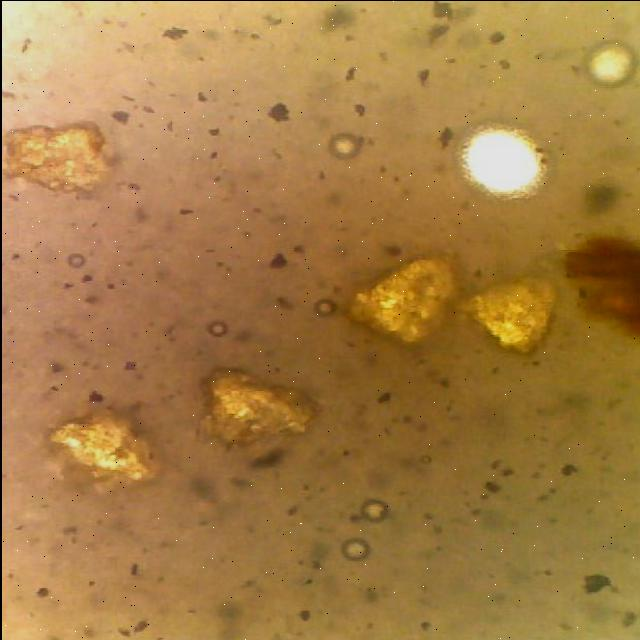microbeads: (582, 34, 640, 90), (337, 536, 371, 566), (354, 497, 390, 525), (327, 133, 363, 161), (200, 320, 230, 338), (308, 300, 338, 318)
